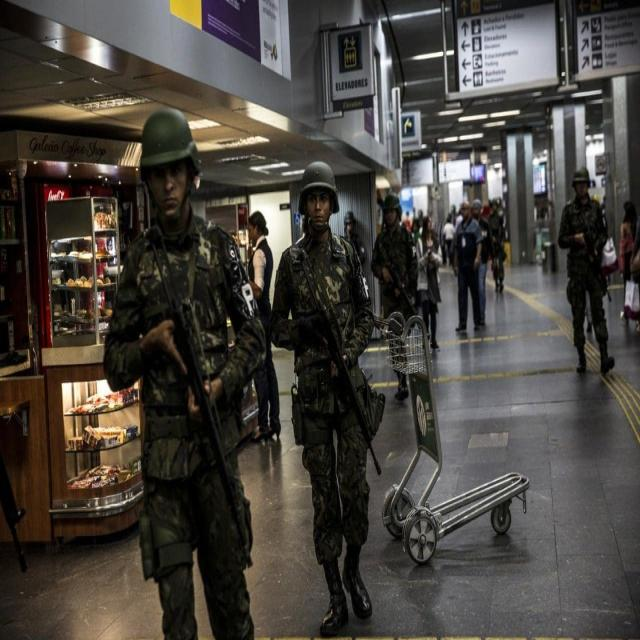body: (97, 106, 269, 640), (271, 158, 386, 636), (556, 163, 618, 375), (370, 192, 418, 402), (241, 206, 281, 445), (452, 198, 487, 334), (416, 213, 444, 351), (464, 198, 490, 328), (619, 200, 640, 333), (622, 200, 638, 327), (488, 198, 508, 296), (342, 210, 367, 274), (491, 194, 507, 265), (442, 215, 456, 268), (593, 189, 607, 226), (584, 294, 594, 334), (448, 203, 463, 226)
